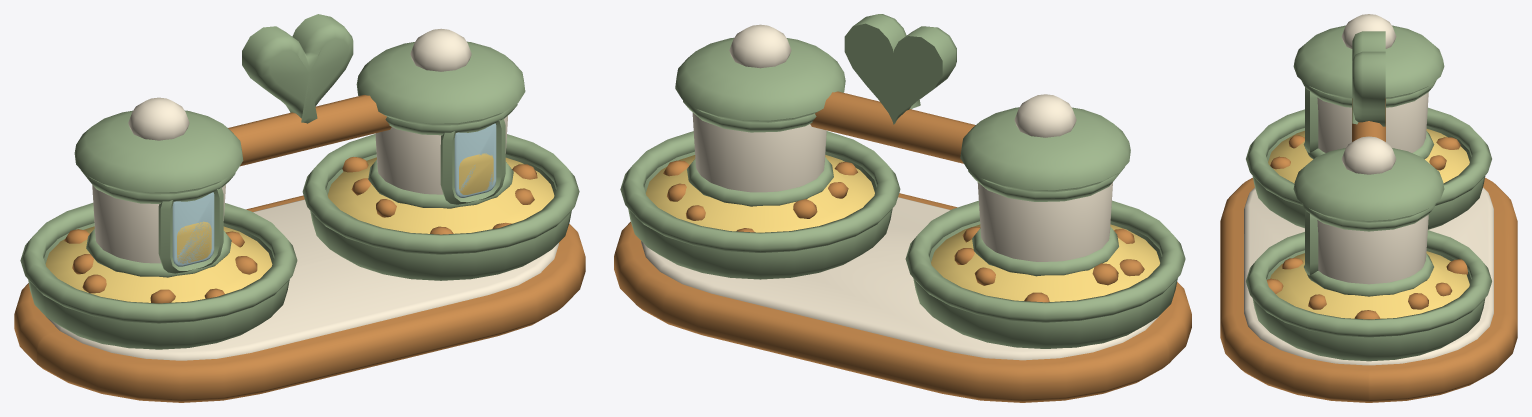
Rendered from ShopFeederDouble.fbx.
3 renders of one model, left to right at view 1: azimuth 30°, elevation 25°; view 2: azimuth 150°, elevation 25°; view 3: azimuth 270°, elevation 25°, orthographic. The views are drawn at different scales.
Visible parts, largest first — view 1: ShopFeederDouble; view 2: ShopFeederDouble; view 3: ShopFeederDouble.
Part boxes in pixels (<box>): ShopFeederDouble: <box>14,14,585,402</box>; ShopFeederDouble: <box>614,14,1191,402</box>; ShopFeederDouble: <box>1220,14,1517,402</box>.
Size of the model in its own units: 1.38 by 0.6987 by 0.76.
